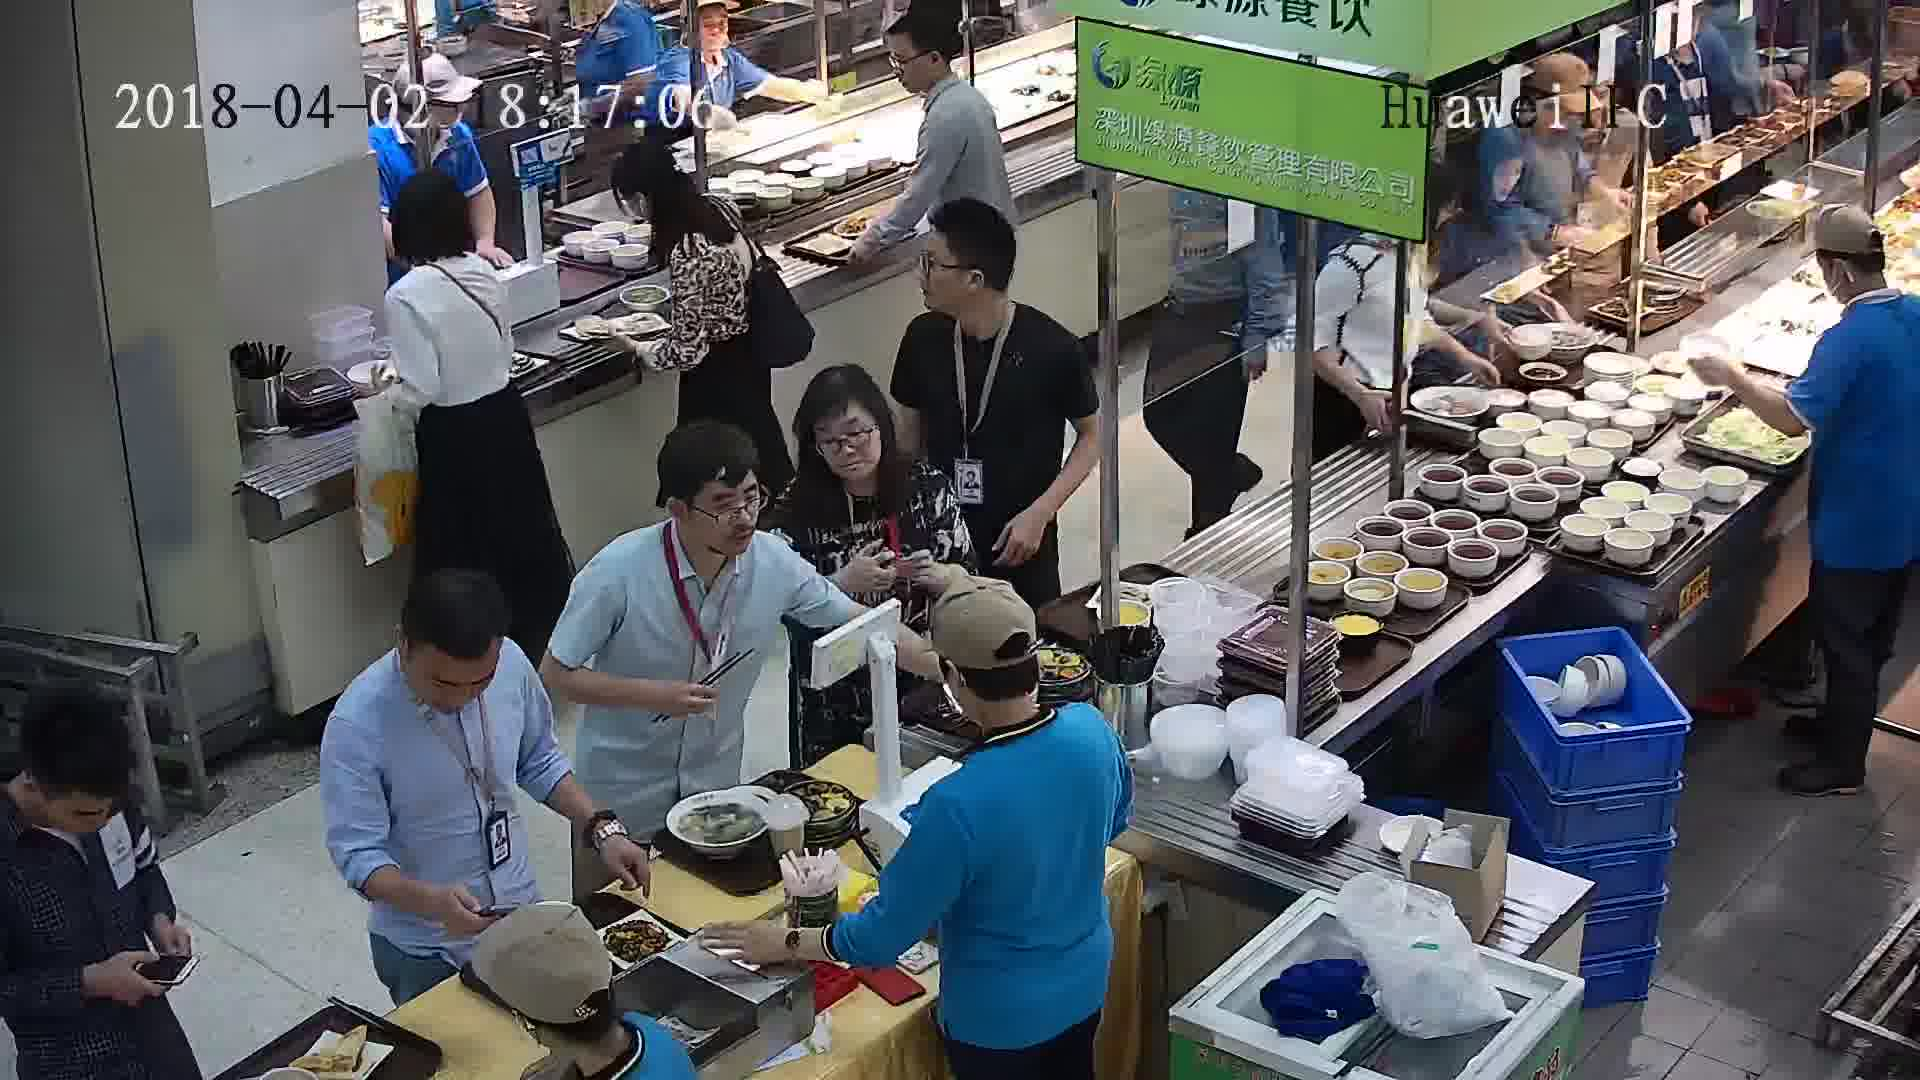face: (898, 222, 990, 314), (681, 471, 764, 554), (414, 633, 494, 713), (810, 405, 886, 481), (880, 32, 938, 91)
person: (908, 592, 1121, 842), (574, 413, 814, 624), (330, 556, 552, 757), (896, 197, 1085, 391), (764, 363, 958, 539), (1, 690, 144, 916), (375, 172, 514, 332), (602, 140, 755, 283), (1799, 208, 1920, 386), (1477, 70, 1623, 195), (883, 5, 990, 141), (402, 52, 487, 164), (667, 3, 765, 83)
